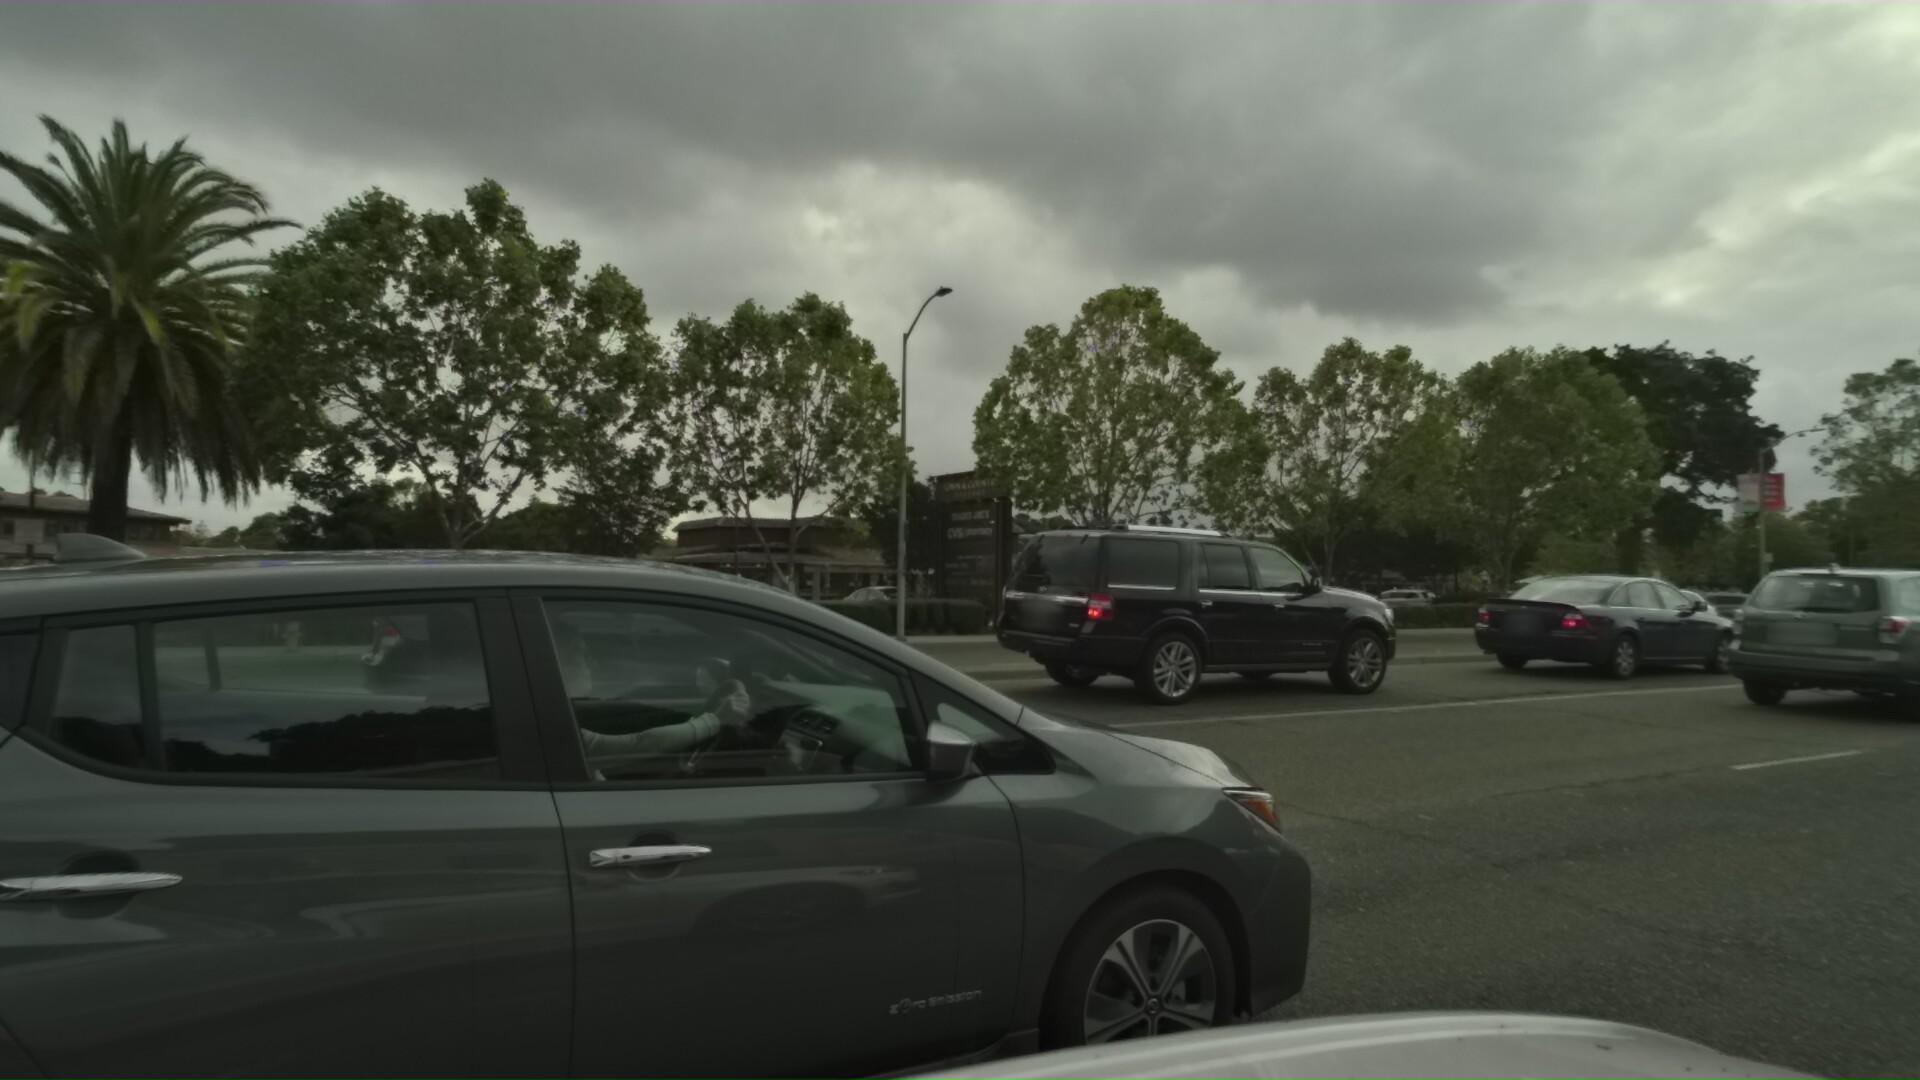car: (0, 414, 1440, 1080), (305, 546, 886, 762), (951, 530, 1414, 735), (1441, 563, 1754, 684), (1708, 559, 1920, 731), (396, 558, 669, 659), (1549, 578, 1704, 644), (806, 580, 916, 637), (1647, 585, 1770, 633), (1890, 574, 1920, 651)
